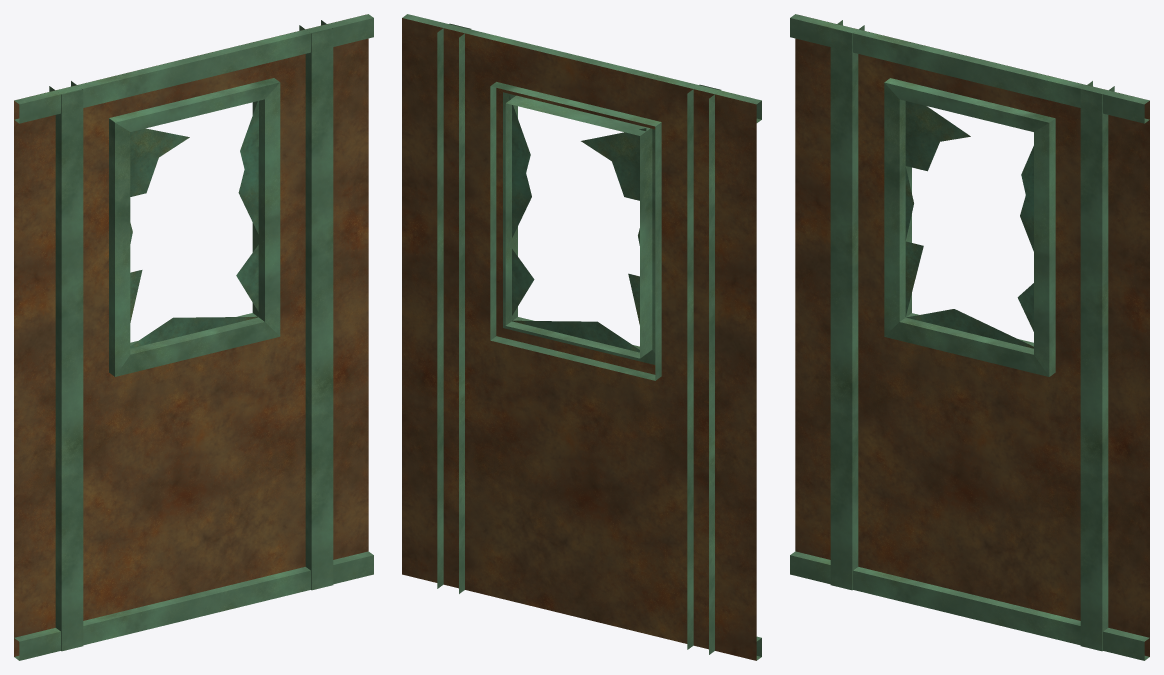
The model's file is Wall1_MidShip.FBX.
3 views of the same model, side by side, from view 1: azimuth 30°, elevation 25°; view 2: azimuth 150°, elevation 25°; view 3: azimuth 330°, elevation 25° (orthographic).
Parts seen in each view (by area): view 1: Plane004; view 2: Plane004; view 3: Plane004.
Part boxes in pixels (x1,y1,x2,y2): Plane004: (14,14,373,660); Plane004: (402,14,761,660); Plane004: (790,14,1149,660).
Bounding box in the file's own units: 200 × 300 × 12.01.
